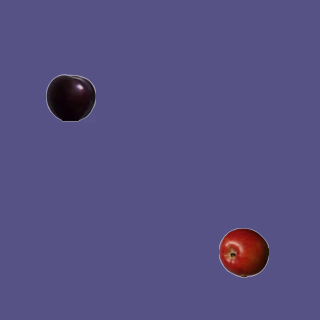Apple Braeburn: (218, 227, 268, 277)
Cherry Wax Black: (45, 72, 95, 122)
